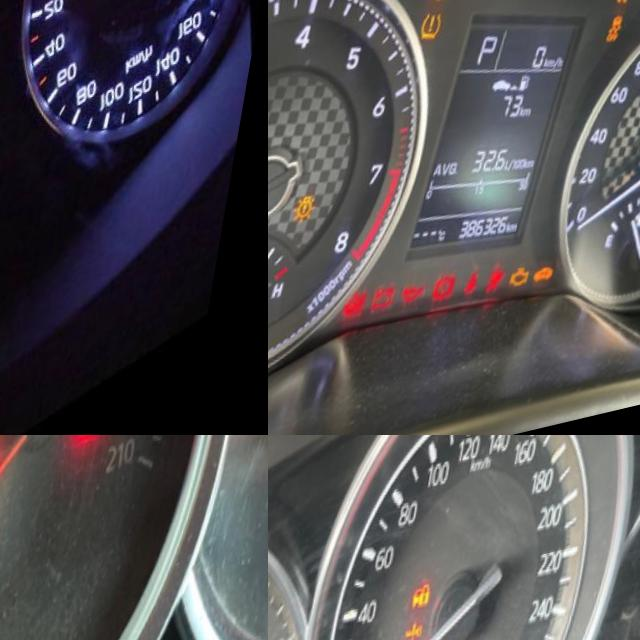Electronic Power Steering: (354, 303, 386, 335)
High Engine Coolant Temperature: (0, 453, 15, 511)
